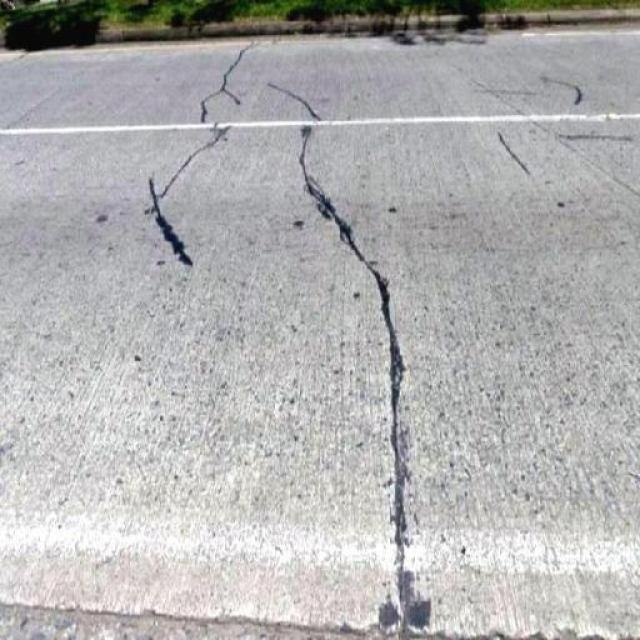moderate crack: (287, 106, 418, 627), (2, 115, 630, 132), (377, 546, 430, 640), (45, 618, 77, 638), (209, 125, 229, 146)
severe crack: (453, 71, 640, 624), (10, 529, 631, 571), (144, 116, 232, 261), (292, 115, 340, 230), (0, 68, 86, 130), (388, 414, 419, 529), (209, 38, 256, 106), (263, 81, 315, 117), (495, 129, 528, 173), (544, 74, 582, 103), (337, 617, 377, 636), (377, 281, 390, 305)
